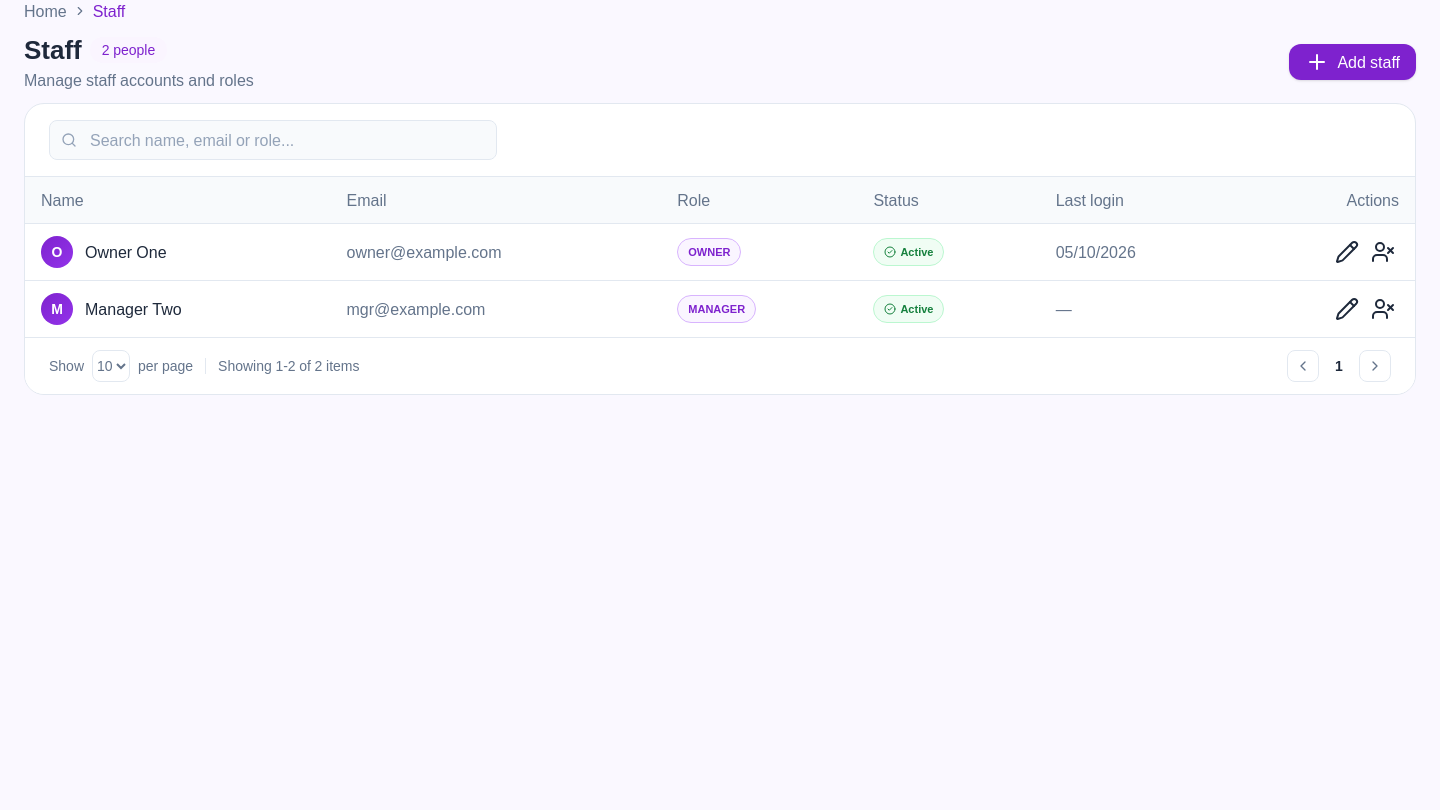
Scenario: StaffList › ກົດເພີ່ມພະນັກງານ: ເປີດ dialog
Check: the text "Owner One" is shown, box left=85, top=240, right=166, bottom=262
Click the button "Add staff". click: (1353, 62)
box: left=1289, top=44, right=1416, bottom=80
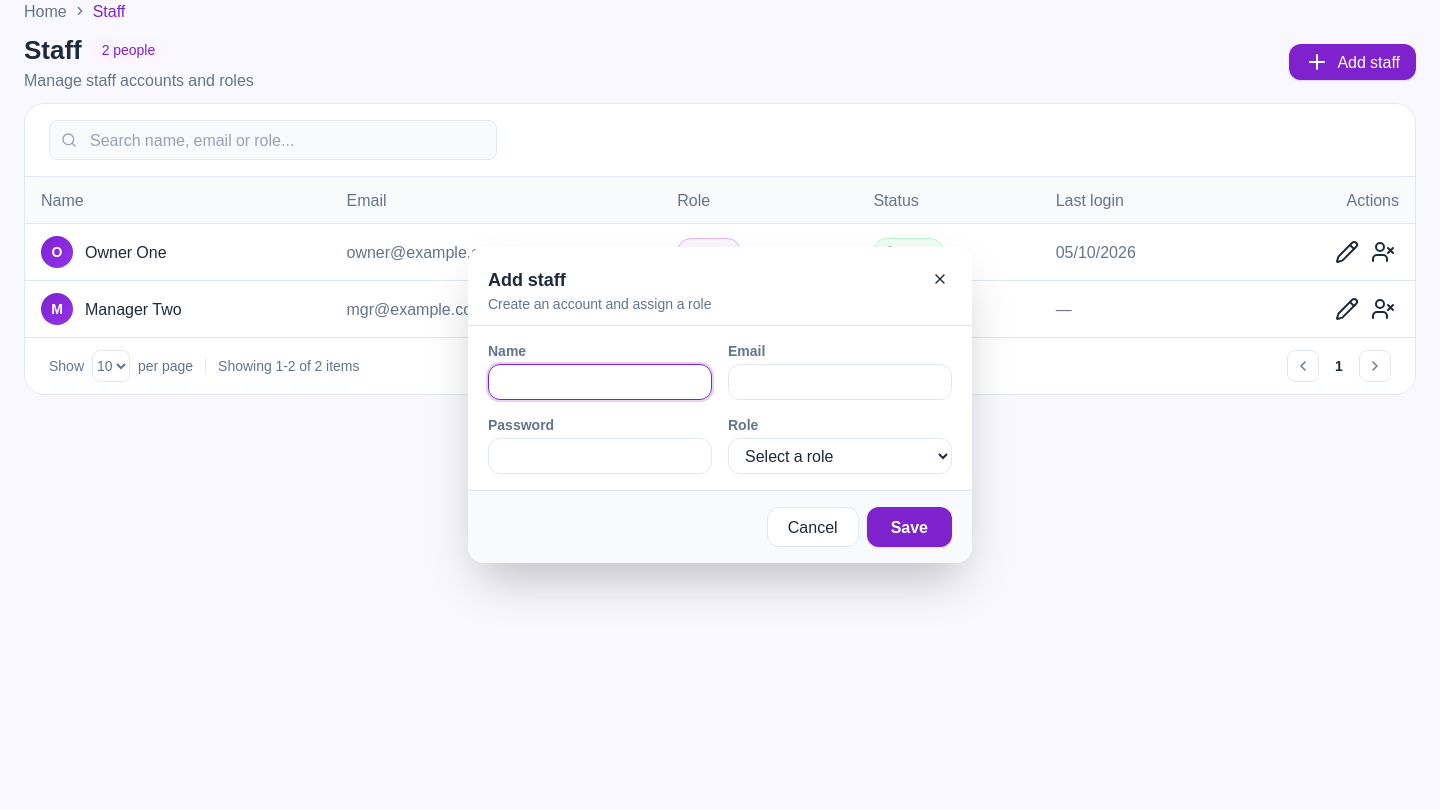
Check: the dialog "Add staff" is shown, box left=468, top=247, right=972, bottom=563
